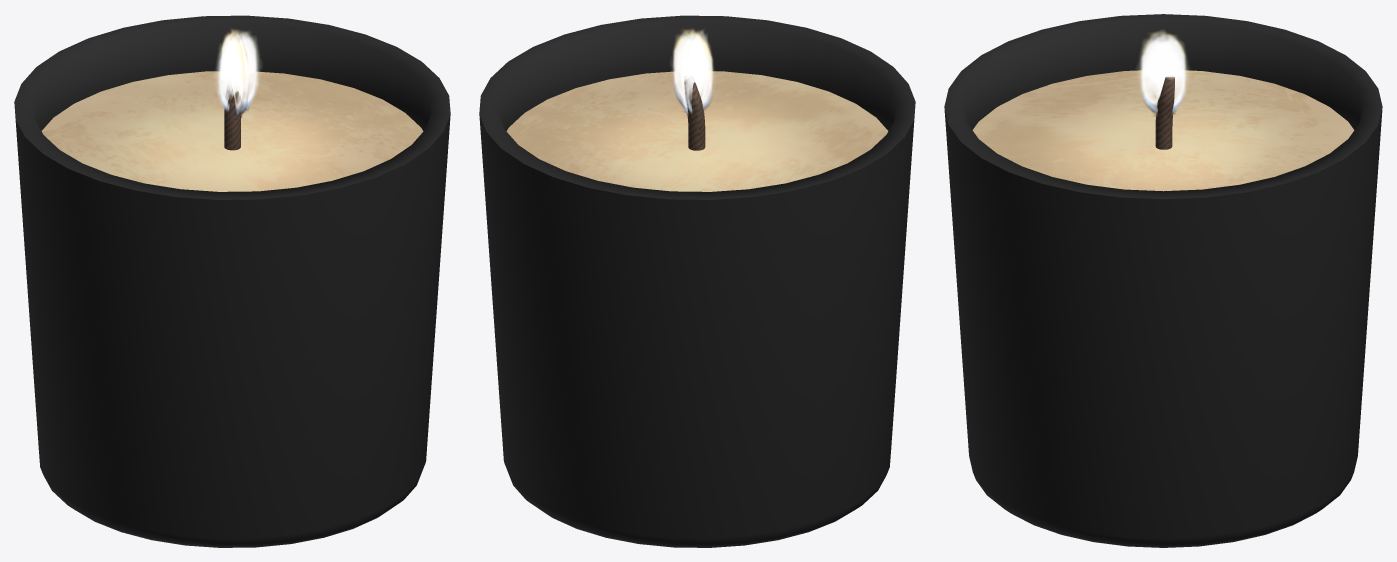
File: cinnamon-ember-soy.glb
3 renders of one model, left to right at view 1: azimuth 30°, elevation 25°; view 2: azimuth 150°, elevation 25°; view 3: azimuth 270°, elevation 25°, orthographic.
Parts seen in each view (by area): view 1: Object_2, Object_3; view 2: Object_2, Object_3; view 3: Object_2, Object_3.
Part boxes in pixels (x1,y1,x2,y2): Object_2: (14,15,450,547); Object_3: (216,29,259,117); Object_2: (479,15,915,547); Object_3: (672,29,713,115); Object_2: (944,14,1382,547); Object_3: (1138,31,1188,116).
Size of the model in its own units: 4.08 by 4.57 by 4.08.
Materials: 2 (2 with a texture image).
